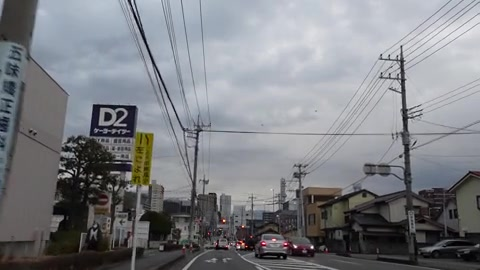traffic_sign: (195, 213, 200, 221)
